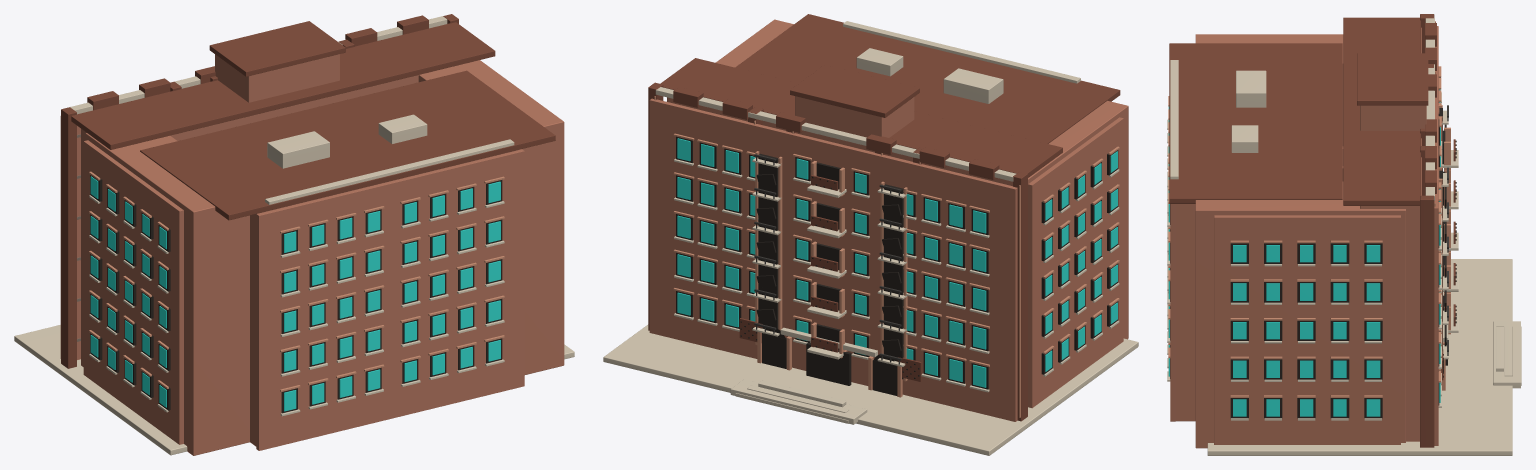
The model's file is runtime-props.glb.
The picture shows the model from 3 angles, left to right: view 1: azimuth 30°, elevation 25°; view 2: azimuth 150°, elevation 25°; view 3: azimuth 270°, elevation 25°; orthographic projection. The views are drawn at different scales.
Visible parts, largest first — view 1: Armacost_RearFacadeSkin, Armacost_RearRoofDeck, Armacost_LeftRearWing, Armacost_LeftFacadeSkin, Armacost_MainRoofDeck, Armacost_RightRearWing, Armacost_CentralTowerRoofDeck, Armacost_FrontVerticalPier_-8.88, Armacost_CentralEntryTower, Armacost_SitePlinth, Armacost_RoofLineRear, Armacost_RearBlock (+6 smaller); view 2: Armacost_FrontFacadeSkin, Armacost_RearRoofDeck, Armacost_SitePlinth, Armacost_LeftFacadeSkin, Armacost_MainRoofDeck, Armacost_CentralTowerRoofDeck, Armacost_LeftRearWing, Armacost_CentralEntryTower, Armacost_FrontVerticalPier_-8.88, Armacost_Right_Stairwell_Recess, Armacost_Left_Stairwell_Recess, Armacost_RoofLineFront (+14 smaller); view 3: Armacost_RightFacadeSkin, Armacost_RearRoofDeck, Armacost_SitePlinth, Armacost_MainRoofDeck, Armacost_RightRearWing, Armacost_RearBlock, Armacost_CentralTowerRoofDeck, Armacost_FrontVerticalPier_+8.88, Armacost_RightMainBlock, Armacost_CentralEntryTower, Armacost_LeftRearWing, Armacost_FrontFacadeSkin (+8 smaller).
Part boxes in pixels (left/top/right/bottom): Armacost_RearFacadeSkin: left=256, top=149, right=524, bottom=450; Armacost_RearRoofDeck: left=140, top=70, right=555, bottom=220; Armacost_LeftRearWing: left=85, top=133, right=249, bottom=455; Armacost_LeftFacadeSkin: left=83, top=140, right=183, bottom=444; Armacost_MainRoofDeck: left=71, top=22, right=495, bottom=149; Armacost_RightRearWing: left=418, top=60, right=564, bottom=374; Armacost_CentralTowerRoofDeck: left=209, top=21, right=345, bottom=76; Armacost_FrontVerticalPier_-8.88: left=61, top=107, right=76, bottom=368; Armacost_CentralEntryTower: left=215, top=54, right=339, bottom=123; Armacost_SitePlinth: left=14, top=325, right=574, bottom=455; Armacost_RoofLineRear: left=265, top=139, right=514, bottom=204; Armacost_RearBlock: left=250, top=150, right=517, bottom=446; Armacost_FrontFacadeSkin: left=649, top=98, right=1017, bottom=421; Armacost_RearRoofDeck: left=735, top=14, right=1120, bottom=143; Armacost_SitePlinth: left=603, top=324, right=1138, bottom=455; Armacost_LeftFacadeSkin: left=1028, top=117, right=1123, bottom=408; Armacost_MainRoofDeck: left=660, top=58, right=1062, bottom=177; Armacost_CentralTowerRoofDeck: left=790, top=65, right=919, bottom=117; Armacost_LeftRearWing: left=1028, top=100, right=1128, bottom=339; Armacost_CentralEntryTower: left=795, top=96, right=914, bottom=152; Armacost_FrontVerticalPier_-8.88: left=1013, top=171, right=1027, bottom=421; Armacost_Right_Stairwell_Recess: left=758, top=153, right=778, bottom=328; Armacost_Left_Stairwell_Recess: left=883, top=184, right=903, bottom=379; Armacost_RoofLineFront: left=655, top=87, right=1016, bottom=181; Armacost_RightFacadeSkin: left=1214, top=215, right=1400, bottom=444; Armacost_RearRoofDeck: left=1169, top=43, right=1342, bottom=203; Armacost_SitePlinth: left=1207, top=259, right=1512, bottom=455; Armacost_MainRoofDeck: left=1343, top=17, right=1420, bottom=205; Armacost_RightRearWing: left=1195, top=181, right=1405, bottom=448; Armacost_RearBlock: left=1175, top=204, right=1195, bottom=421; Armacost_CentralTowerRoofDeck: left=1357, top=53, right=1428, bottom=105; Armacost_FrontVerticalPier_+8.88: left=1420, top=195, right=1434, bottom=447; Armacost_RightMainBlock: left=1360, top=138, right=1421, bottom=441; Armacost_CentralEntryTower: left=1360, top=105, right=1426, bottom=130; Armacost_LeftRearWing: left=1195, top=34, right=1343, bottom=145; Armacost_FrontFacadeSkin: left=1434, top=26, right=1438, bottom=445.
Size of the model in its own units: 18.8 by 12.91 by 14.63.
